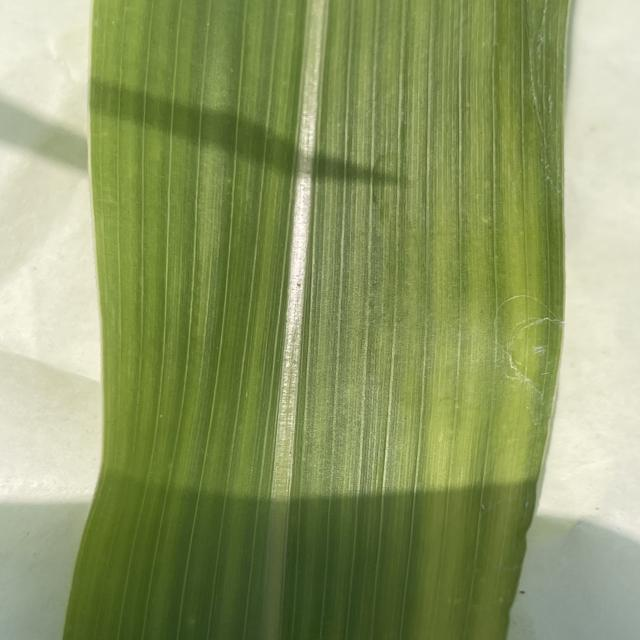millet_healthy: (51, 2, 577, 640)
